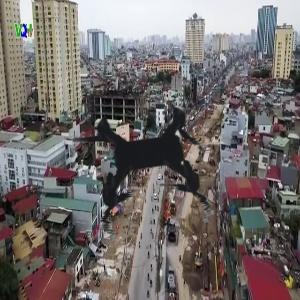drone: (25, 41, 276, 292)
